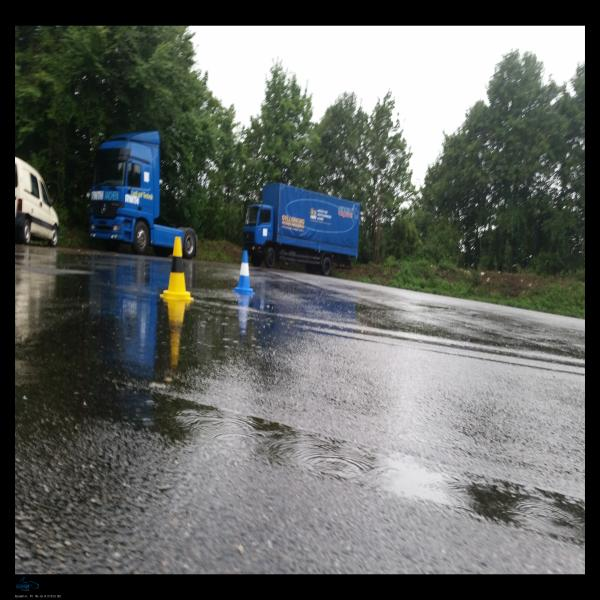blue_cone: (232, 250, 255, 295)
yellow_cone: (160, 236, 194, 300)
